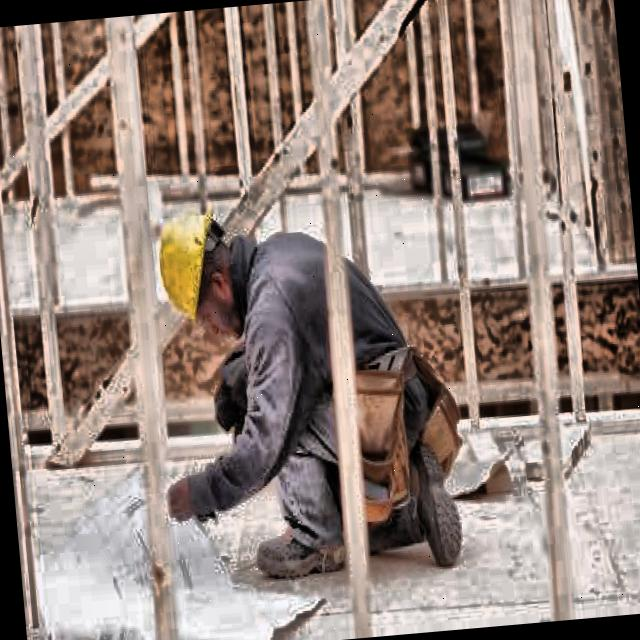helmet: (148, 200, 240, 353)
